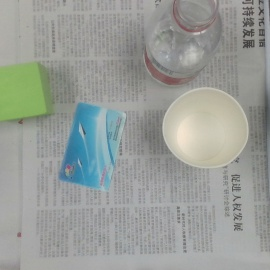bottle: (138, 1, 220, 85)
card: (62, 101, 126, 191)
cup: (158, 88, 249, 168)
